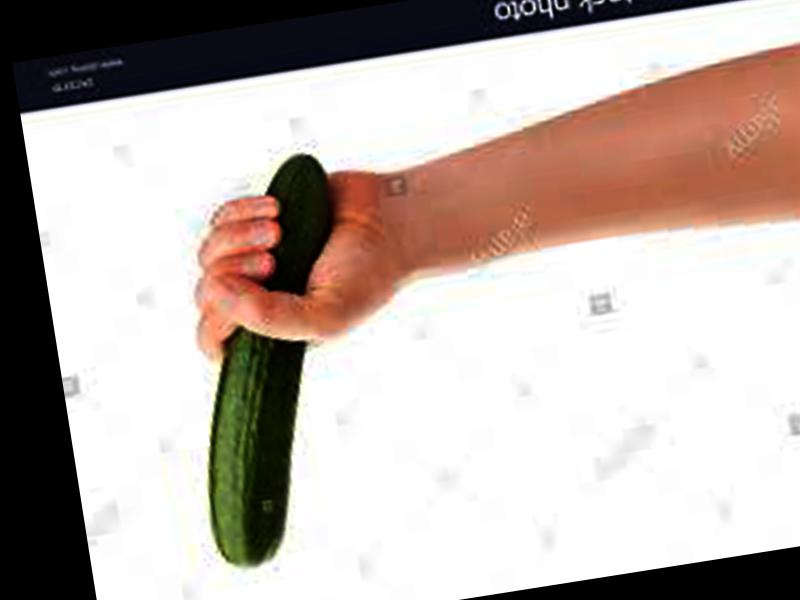Cucumber: (155, 152, 381, 570)
